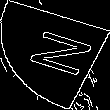N_E: (15, 27, 95, 83)
